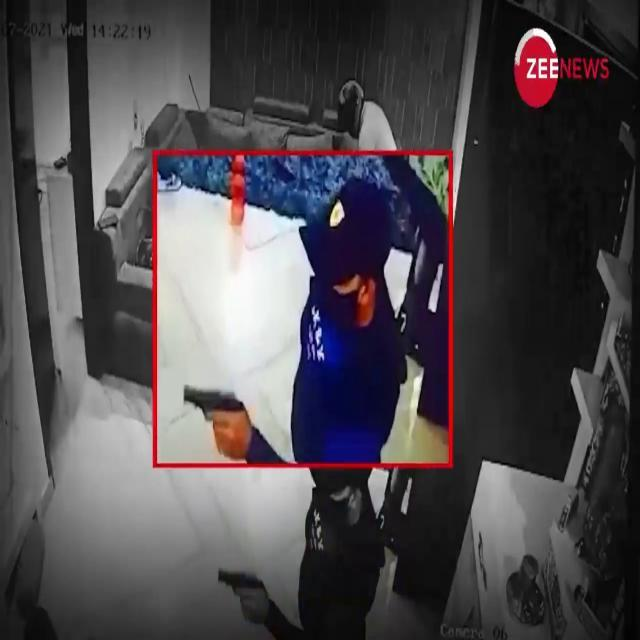weapon: (180, 374, 250, 431)
